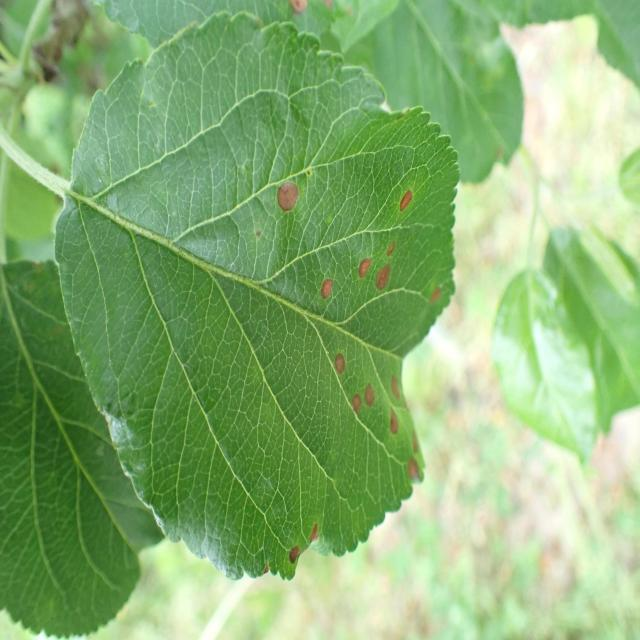Black Rot: (264, 175, 310, 236), (277, 512, 326, 564), (310, 334, 355, 388), (415, 263, 447, 329), (398, 457, 429, 508), (316, 264, 346, 314), (330, 386, 367, 426), (350, 237, 373, 297), (396, 161, 414, 232), (381, 407, 408, 454), (382, 369, 414, 405), (358, 368, 378, 420), (373, 253, 393, 304), (401, 429, 436, 453)
